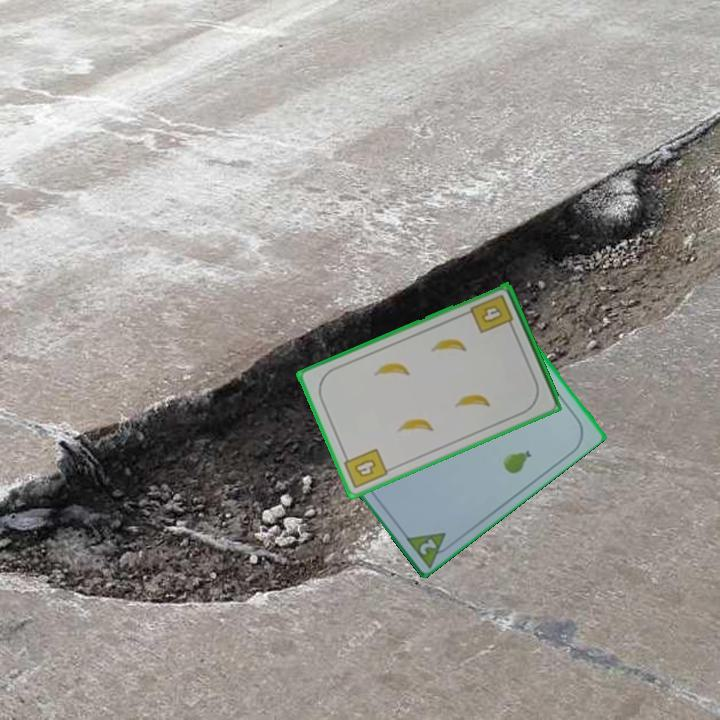2p: (416, 534, 440, 558)
4b: (339, 445, 391, 492), (467, 291, 517, 337)
